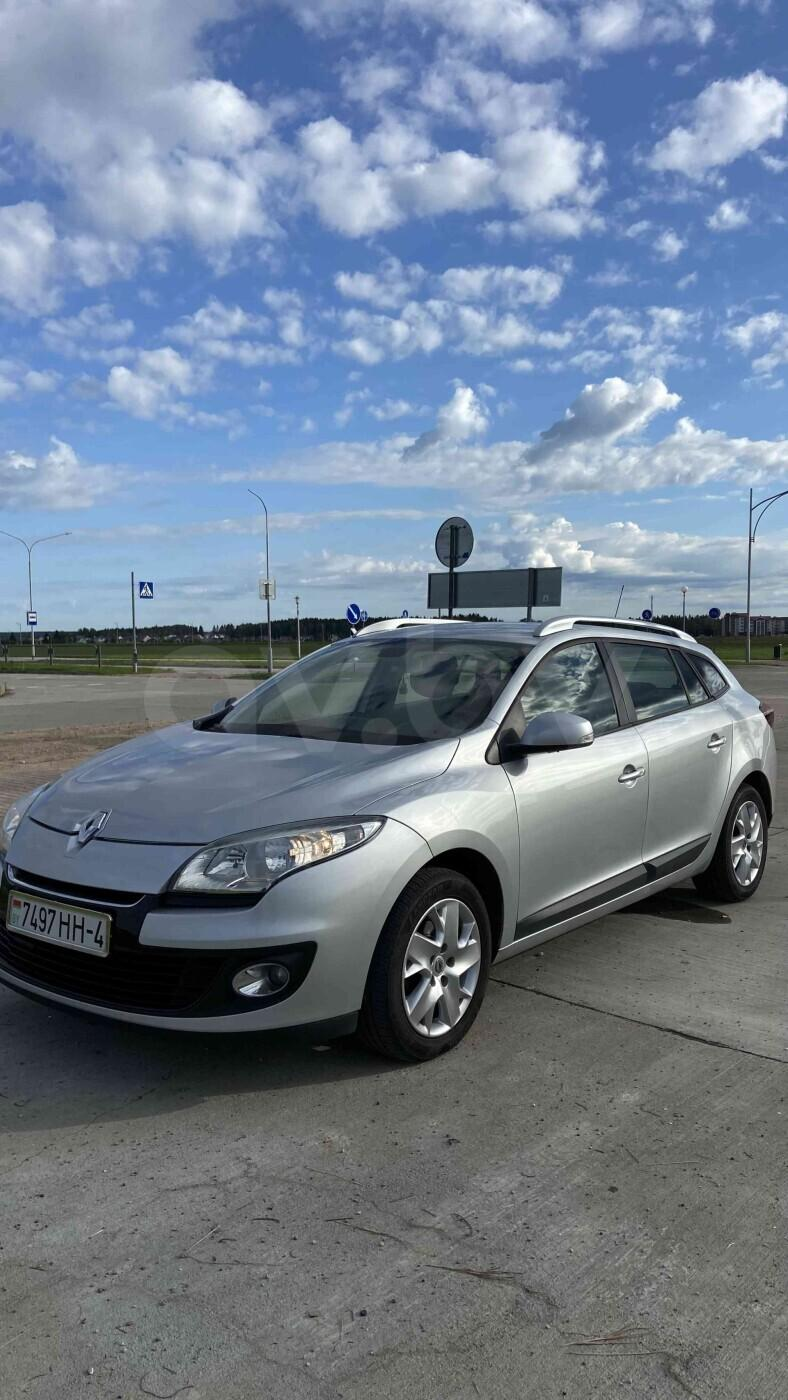Megane_2008-2014: (0, 612, 778, 1068)
